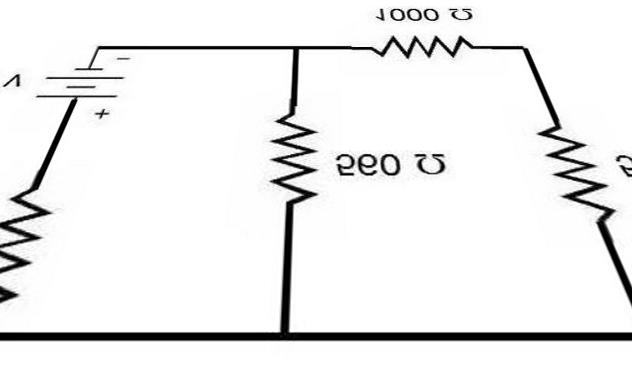resistor: (530, 103, 612, 238), (0, 177, 78, 317), (261, 95, 325, 223), (360, 28, 476, 62)
